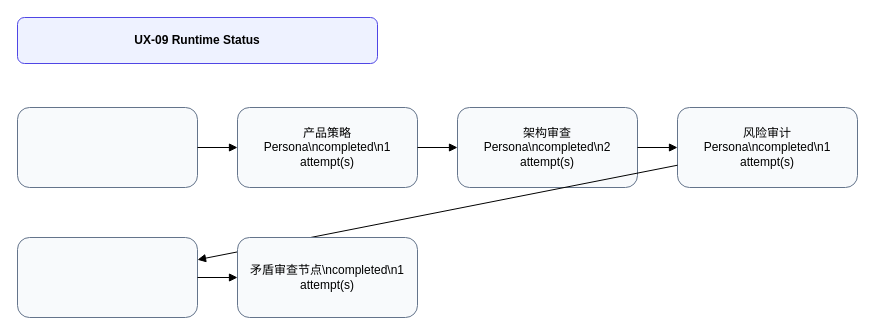
Some shapes in this 875 by 335 pixel diagram are drawn without their labels. The shapes that lost their labels are listed below. From the top down, each one's box as (x1, y1, x2, y2) in pixels, then its label:
(16, 106, 198, 188): 主持编排节点\ncompleted\n1 attempt(s)
(16, 236, 198, 318): 汇总节点\ncompleted\n1 attempt(s)
